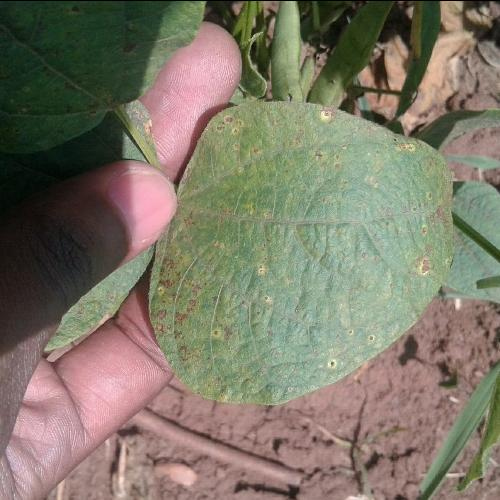hawar: (157, 246, 233, 370), (383, 136, 444, 284)
